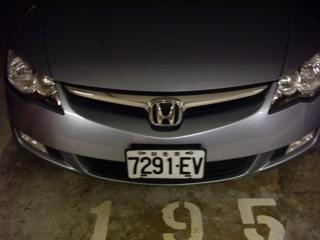plate: (124, 146, 206, 181)
